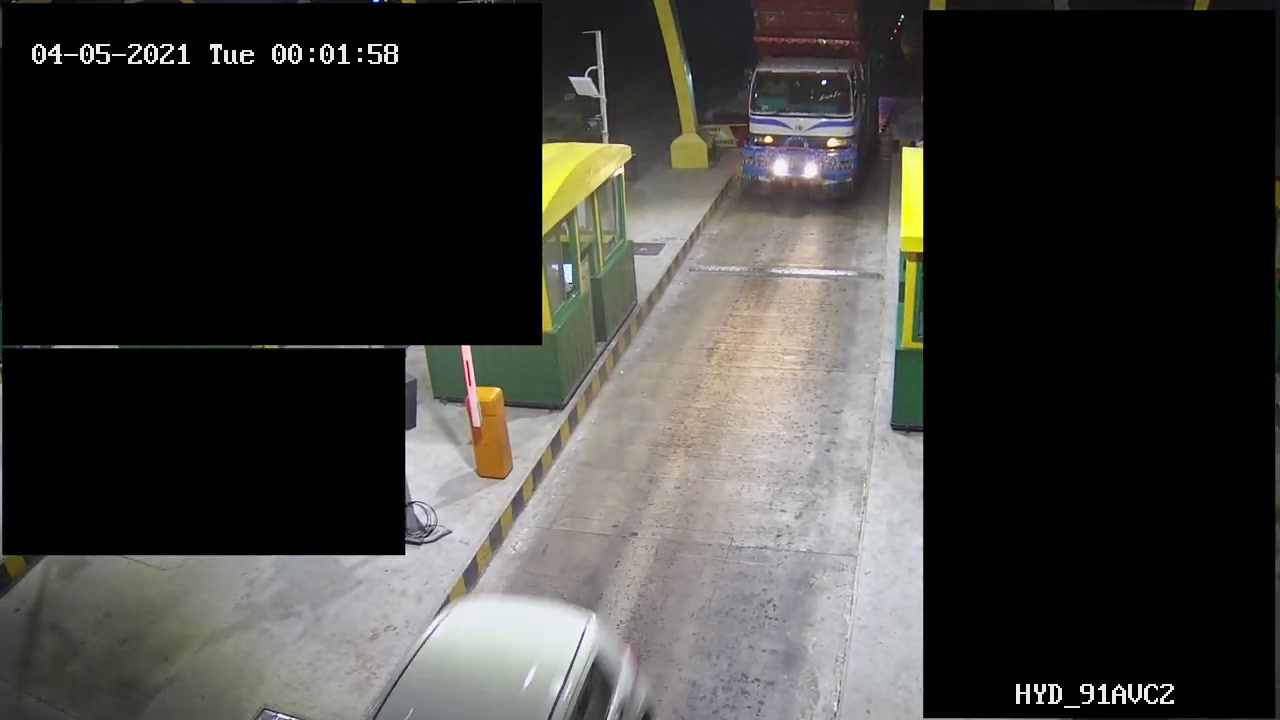F5: (736, 1, 876, 194)
